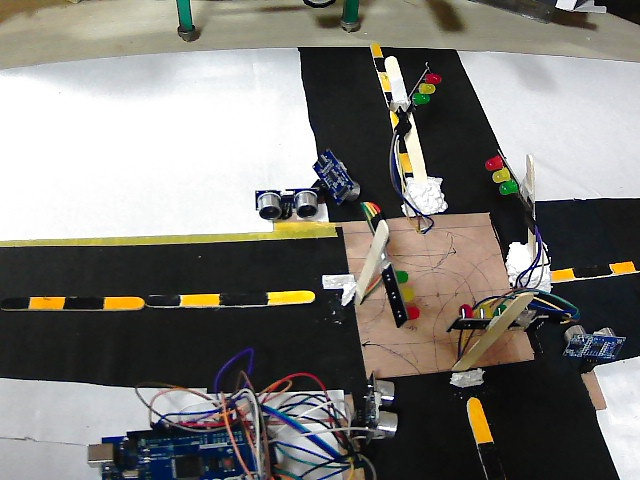black_strip: (215, 282, 262, 309), (477, 441, 504, 480), (135, 282, 178, 306), (59, 287, 99, 311), (574, 258, 612, 281), (370, 87, 401, 107), (388, 128, 412, 150), (0, 294, 28, 309), (367, 54, 390, 69)
mixed_lane: (0, 293, 322, 311), (368, 39, 408, 173), (466, 384, 502, 477), (544, 257, 636, 282)
traffic_light: (396, 71, 437, 137), (380, 270, 427, 324), (451, 303, 521, 336), (481, 152, 520, 194)
uno_breadboard: (79, 411, 278, 479), (313, 141, 358, 201), (362, 371, 398, 436), (253, 186, 323, 219), (566, 327, 624, 362)
yellow_strip: (464, 393, 492, 444), (260, 285, 312, 306), (100, 290, 142, 314), (181, 288, 216, 308), (610, 258, 635, 278), (30, 293, 60, 309), (396, 147, 412, 174), (547, 264, 575, 279), (374, 68, 392, 90), (384, 105, 396, 128), (367, 41, 382, 57)
